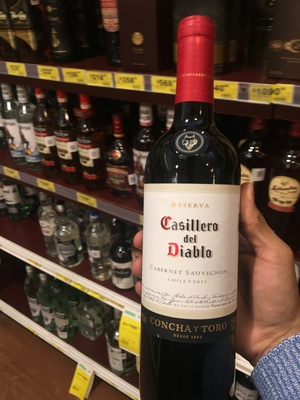casillero del diablo cabernet sauvignon: (129, 22, 249, 400)
